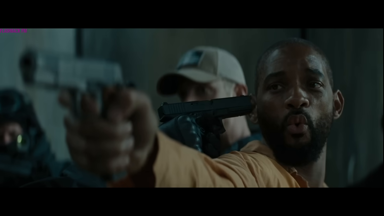firearm: (19, 53, 125, 117), (156, 91, 254, 124)
